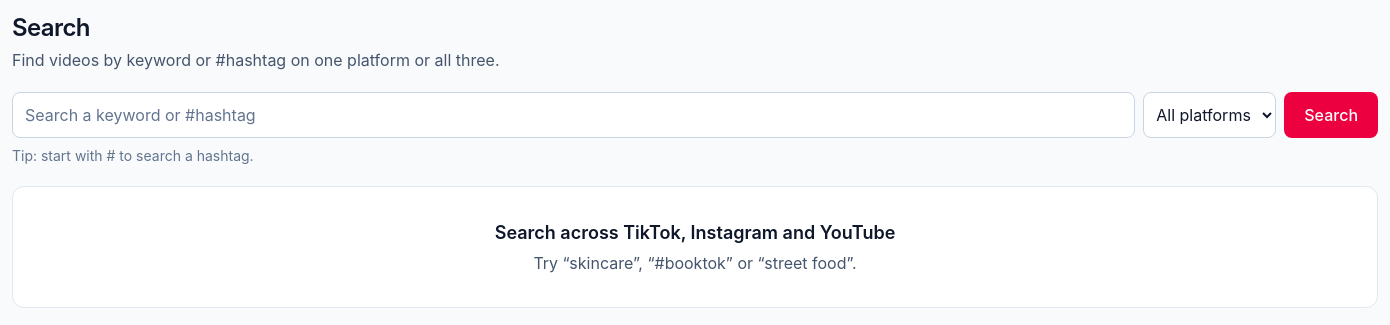
Test case: SearchView › rejects #two words before calling the API
The image size is (1390, 325).
Type "#two words" into the search field named "Keyword or hashtag" at x=574, y=115, box left=12, top=92, right=1135, bottom=138
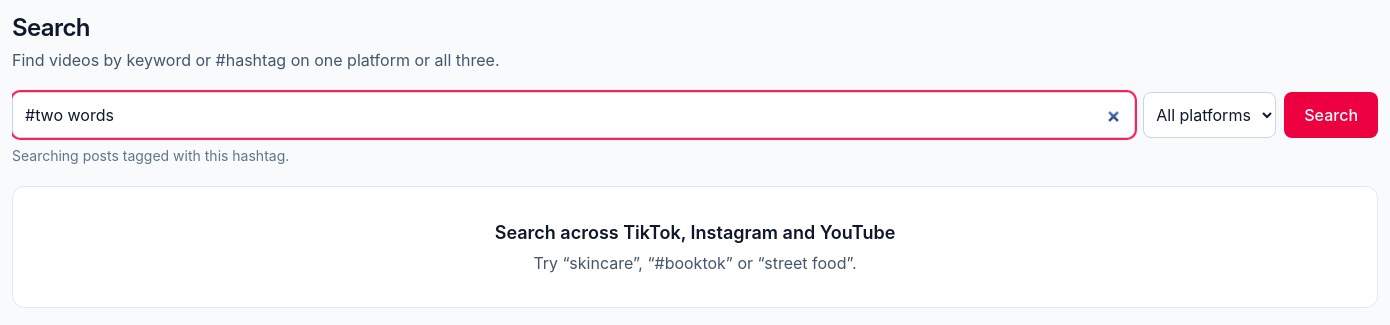
Click the button "Search" at x=1331, y=115, box left=1284, top=92, right=1378, bottom=138
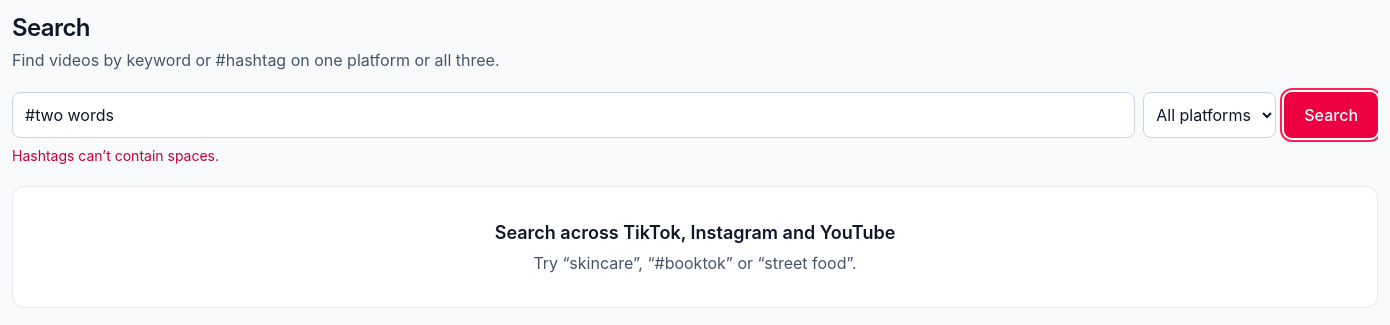
Expected: the text "Hashtags can’t contain spaces." is shown, left=12, top=147, right=219, bottom=164
